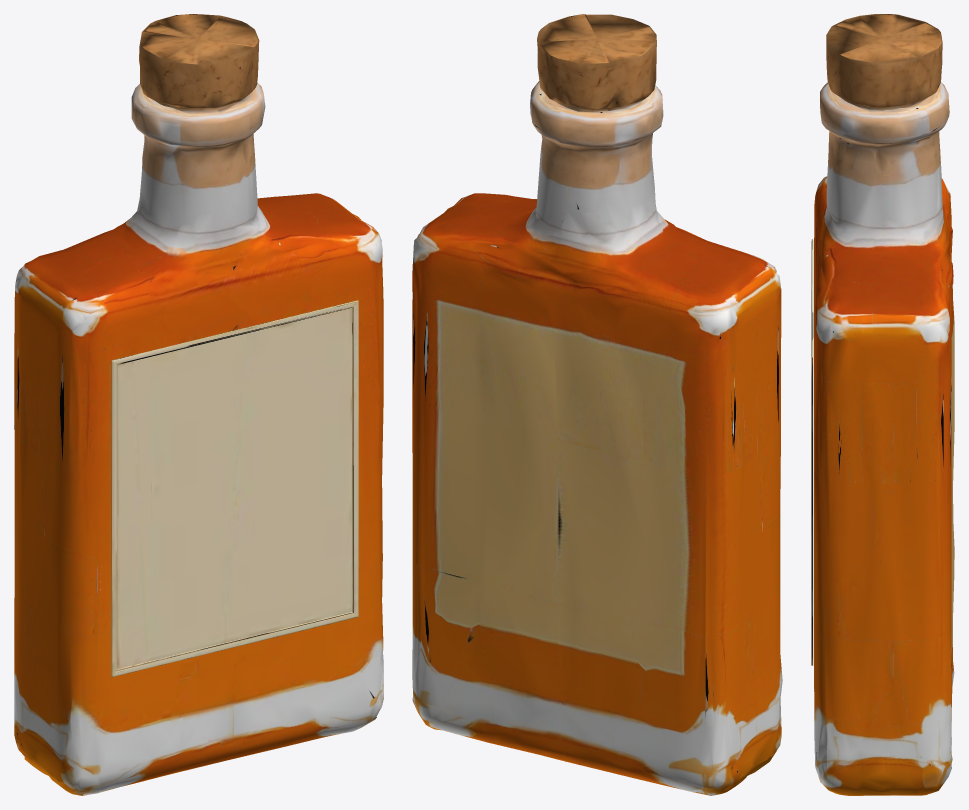
File: mobile.glb
3 renders of one model, left to right at view 1: azimuth 30°, elevation 25°; view 2: azimuth 150°, elevation 25°; view 3: azimuth 270°, elevation 25°, orthographic. The views are drawn at different scales.
Visible parts, largest first — view 1: liquorbottle; view 2: liquorbottle; view 3: liquorbottle.
Part boxes in pixels (<box>): liquorbottle: <box>14,14,383,795</box>; liquorbottle: <box>412,14,782,795</box>; liquorbottle: <box>811,14,954,795</box>.
Bounding box in the file's own units: 0.1439 × 0.3001 × 0.0564.
Materials: 1 (1 with a texture image).
